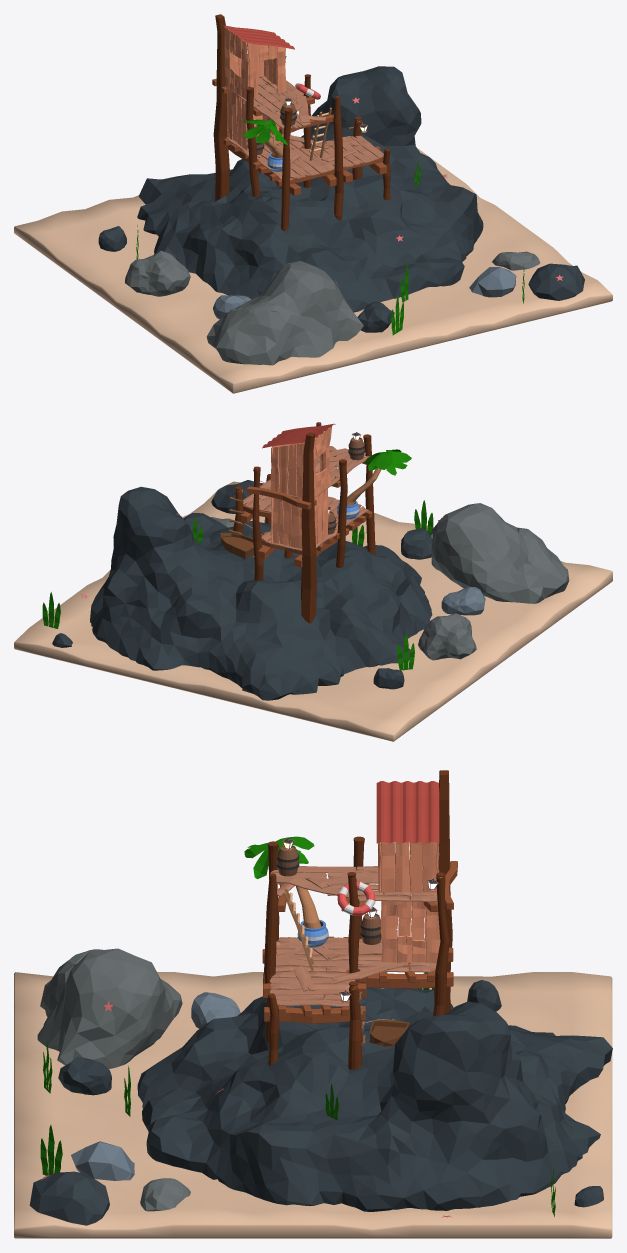
The model's file is shack-day-three-dry.glb.
3 views of the same model, one above another, from view 1: azimuth 30°, elevation 25°; view 2: azimuth 150°, elevation 25°; view 3: azimuth 270°, elevation 25° (orthographic). The views are drawn at different scales.
Visible parts, largest first — view 1: Rock, Sand, Icosphere.001, Icosphere.005, Cube, Icosphere.003, Icosphere.007, Cylinder.005, Cylinder.007, Icosphere, Cylinder.006, Roof (+4 smaller); view 2: Rock, Sand, Icosphere.001, Cube, Icosphere.005, Icosphere.006, Cylinder.006, Icosphere, Cylinder.004, Cylinder.007, Icosphere.003, Roof (+6 smaller); view 3: Rock, Sand, Icosphere.001, Roof, Icosphere.003, Icosphere.007, Icosphere, Cube, Cylinder.004, Cylinder.005, Icosphere.002, Icosphere.006 (+14 smaller).
Boxes of the visible parts, box(x1,y1,x2,y2) form: Rock: box(137, 66, 483, 312); Sand: box(14, 148, 612, 393); Icosphere.001: box(206, 261, 363, 365); Icosphere.005: box(125, 250, 190, 296); Cube: box(213, 14, 229, 201); Icosphere.003: box(528, 263, 584, 300); Icosphere.007: box(469, 267, 516, 297); Cylinder.005: box(333, 96, 343, 220); Cylinder.007: box(281, 108, 292, 230); Icosphere: box(357, 301, 394, 332); Cylinder.006: box(246, 86, 260, 196); Roof: box(222, 25, 294, 49); Rock: box(90, 486, 432, 700); Sand: box(14, 481, 612, 741); Icosphere.001: box(431, 503, 569, 603); Cube: box(301, 432, 316, 623); Icosphere.005: box(418, 613, 476, 660); Icosphere.006: box(441, 587, 485, 615); Cylinder.006: box(336, 459, 347, 567); Icosphere: box(401, 528, 432, 559); Cylinder.004: box(252, 466, 263, 580); Cylinder.007: box(363, 434, 375, 555); Icosphere.003: box(211, 480, 263, 513); Roof: box(262, 423, 335, 448); Rock: box(137, 987, 612, 1211); Sand: box(14, 972, 612, 1238); Icosphere.001: box(37, 948, 182, 1068); Roof: box(376, 781, 439, 843); Icosphere.003: box(29, 1171, 109, 1225); Icosphere.007: box(71, 1141, 134, 1180); Icosphere: box(58, 1056, 111, 1095); Cube: box(433, 770, 452, 1012); Cylinder.004: box(433, 872, 449, 1016); Cylinder.005: box(264, 873, 277, 1042); Icosphere.002: box(140, 1178, 190, 1211); Icosphere.006: box(191, 992, 240, 1028).
Bounding box in the file's own units: 20.01 × 12.25 × 20.02.
